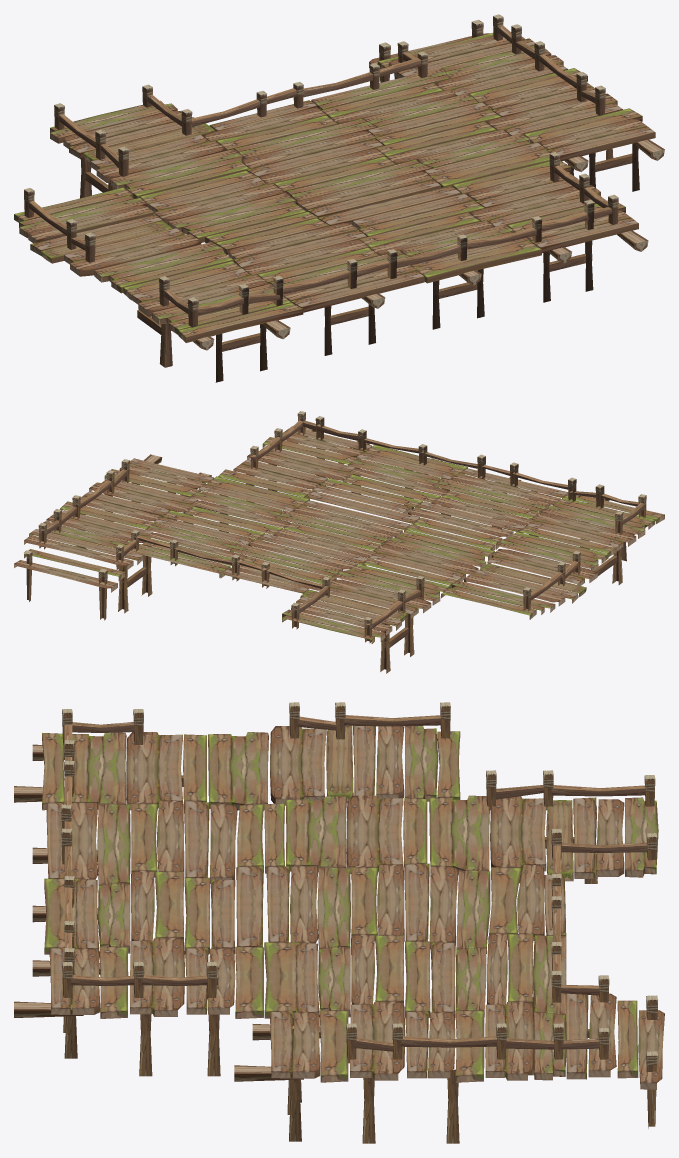
Rendered from Map_05_wooden017.FBX.
The picture shows the model from 3 angles, top to bottom: view 1: azimuth 30°, elevation 25°; view 2: azimuth 150°, elevation 25°; view 3: azimuth 270°, elevation 25°; orthographic projection. The views are drawn at different scales.
Visible parts, largest first — view 1: Map_05_wooden017; view 2: Map_05_wooden017; view 3: Map_05_wooden017.
Part boxes in pixels (<box>): Map_05_wooden017: <box>14,14,664,382</box>; Map_05_wooden017: <box>14,411,664,673</box>; Map_05_wooden017: <box>14,702,664,1143</box>.
Size of the model in its own units: 1981 by 279 by 1534.
